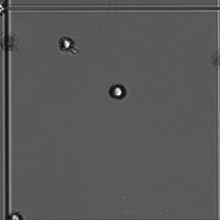Dead Cell: (1, 31, 24, 55)
Living Cell: (106, 78, 134, 106), (56, 33, 82, 59), (1, 1, 16, 16)
